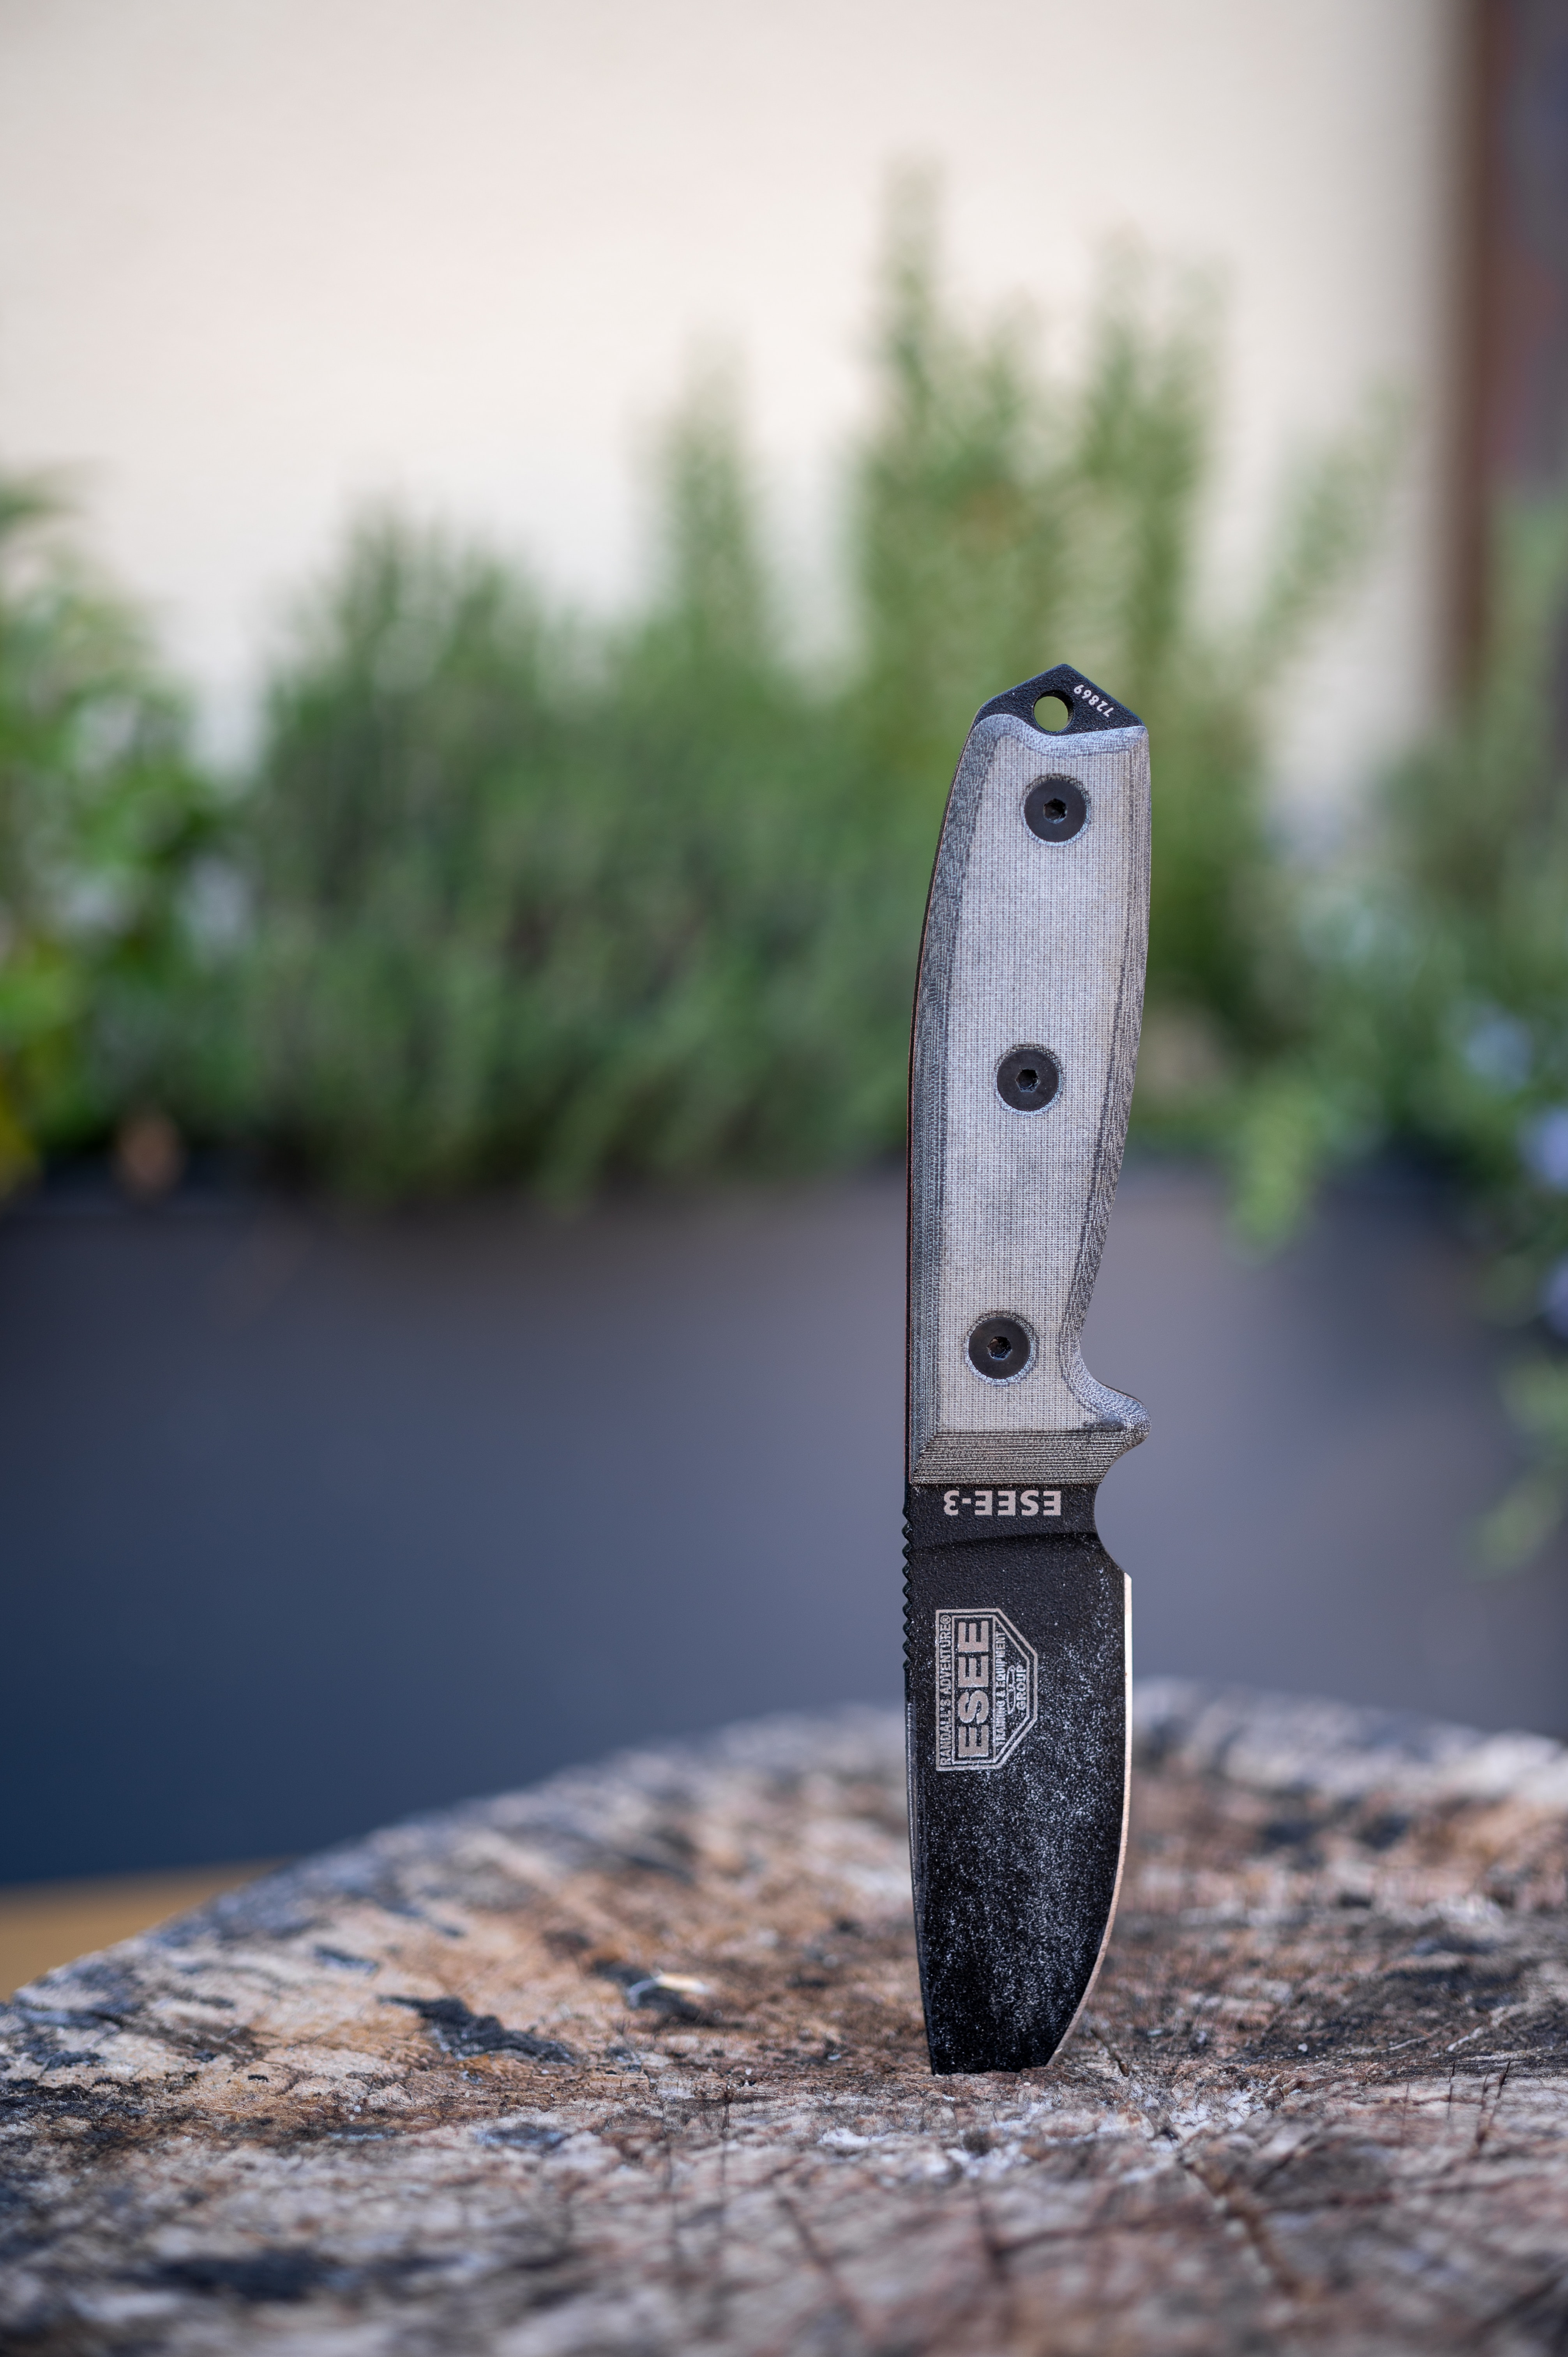knife: (828, 625, 1218, 2109)
